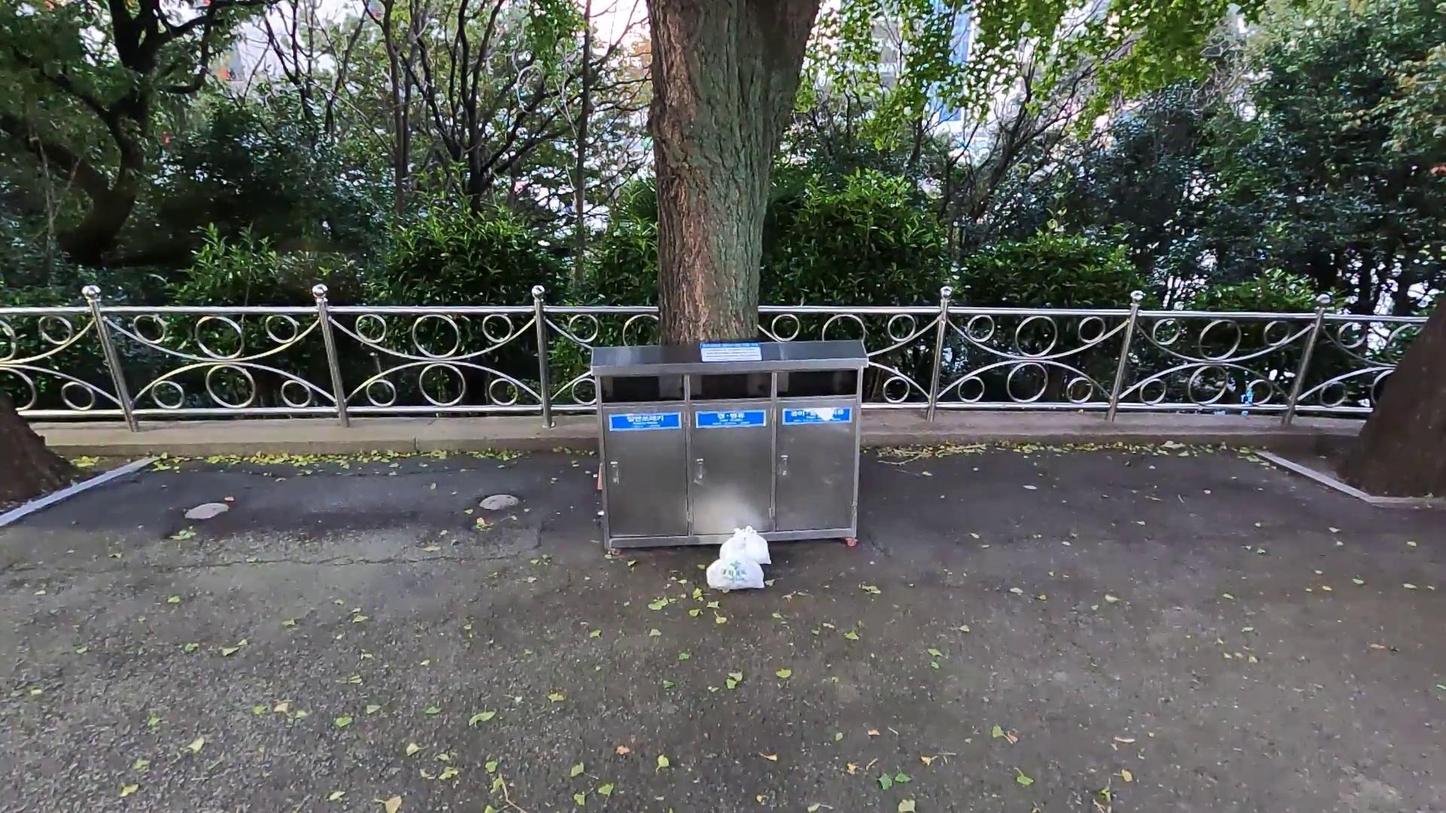trash: (713, 526, 781, 572), (705, 561, 771, 594)
